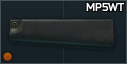MP5 Wide Tropical Polymer handguard: (0, 0, 127, 64)
